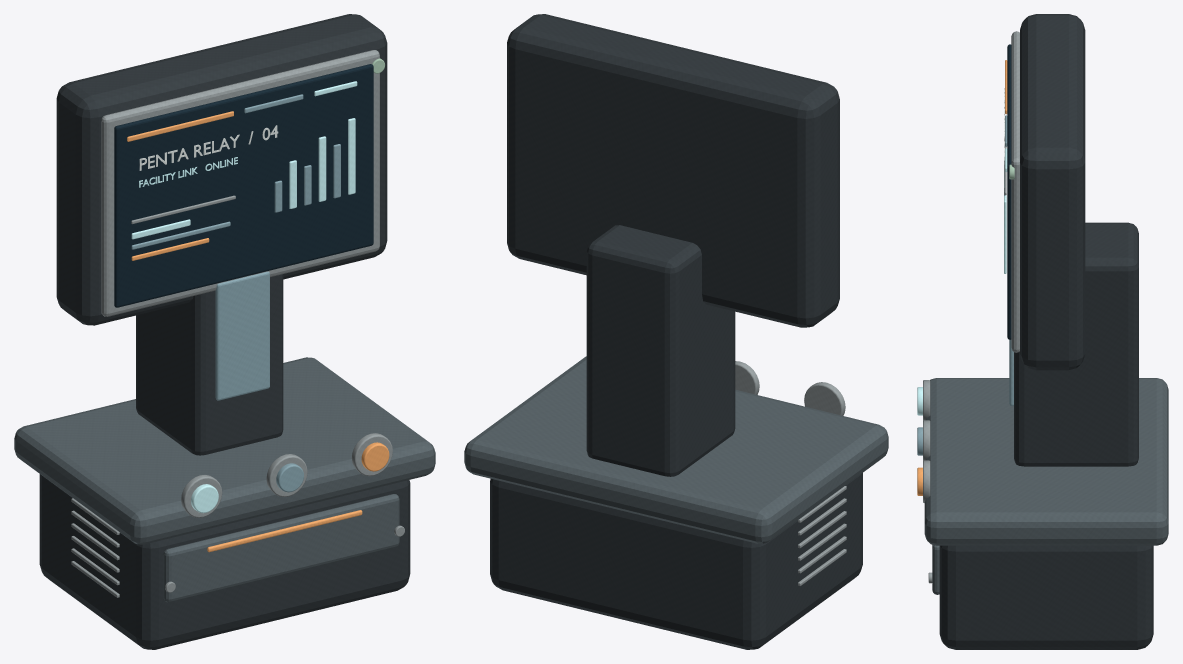
Rendered from PentagolandRelayTerminal.glb.
3 renders of one model, left to right at view 1: azimuth 30°, elevation 25°; view 2: azimuth 150°, elevation 25°; view 3: azimuth 270°, elevation 25°, orthographic. The views are drawn at different scales.
Visible parts, largest first — view 1: PentagolandRelayTerminal_Mesh; view 2: PentagolandRelayTerminal_Mesh; view 3: PentagolandRelayTerminal_Mesh.
Part boxes in pixels (bbox=[...]): PentagolandRelayTerminal_Mesh: bbox=[14, 14, 435, 649]; PentagolandRelayTerminal_Mesh: bbox=[464, 14, 888, 649]; PentagolandRelayTerminal_Mesh: bbox=[917, 14, 1168, 649].
Bounding box in the file's own units: 1.16 × 1.89 × 0.8445.
9 materials, 9 textured.
